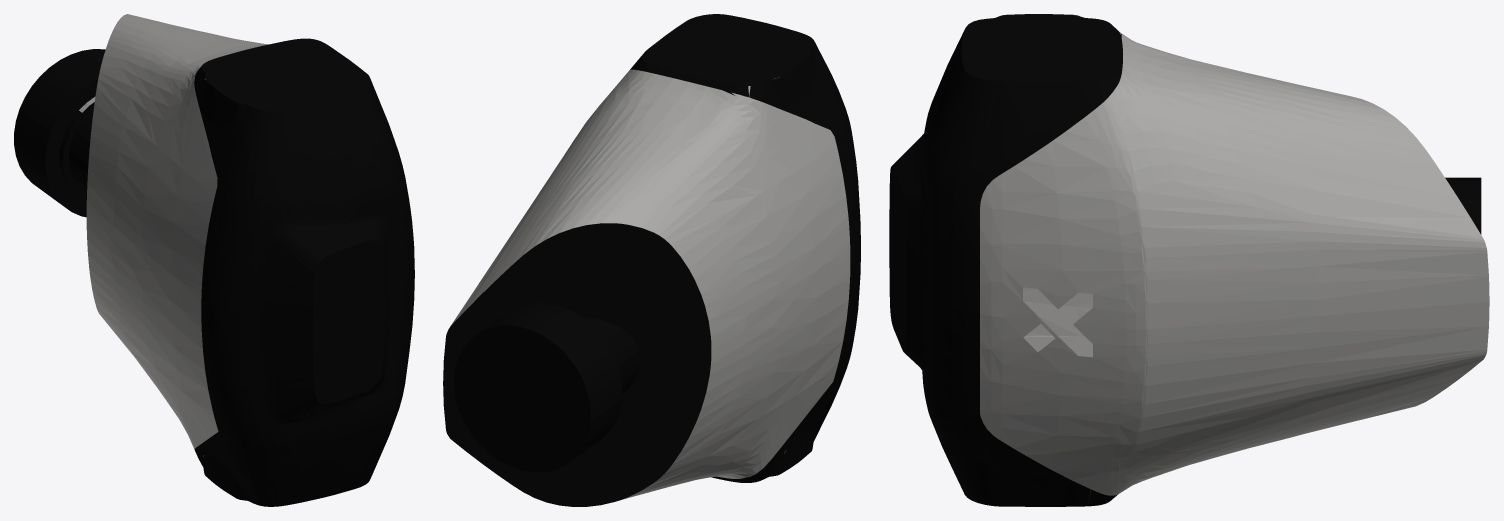
Rendered from torso_link4.usd.sapien.glb.
3 views of the same model, side by side, from view 1: azimuth 30°, elevation 25°; view 2: azimuth 150°, elevation 25°; view 3: azimuth 270°, elevation 25° (orthographic). The views are drawn at different scales.
Parts seen in each view (by area): view 1: torso_link4; view 2: torso_link4; view 3: torso_link4.
Boxes of the visible parts, bbox=[...] form: torso_link4: bbox=[14, 14, 414, 506]; torso_link4: bbox=[443, 14, 860, 506]; torso_link4: bbox=[889, 14, 1489, 506].
Size of the model in its own units: 0.2143 by 0.3484 by 0.4461.
Materials: 1 (1 with a texture image).
